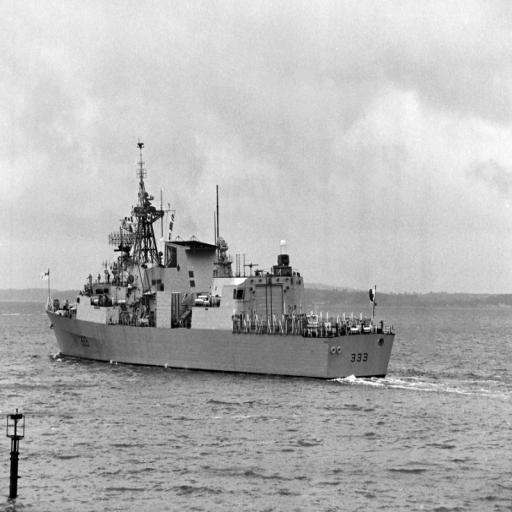Fragata: (45, 131, 398, 388)
